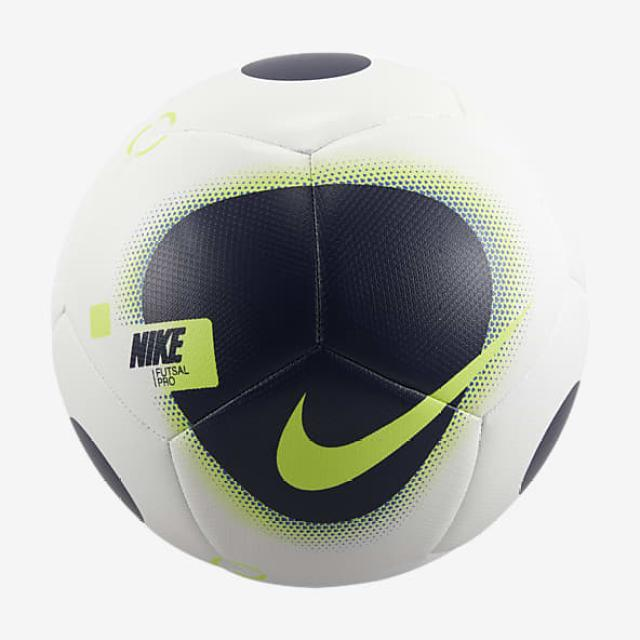soccer ball: (54, 43, 584, 590)
